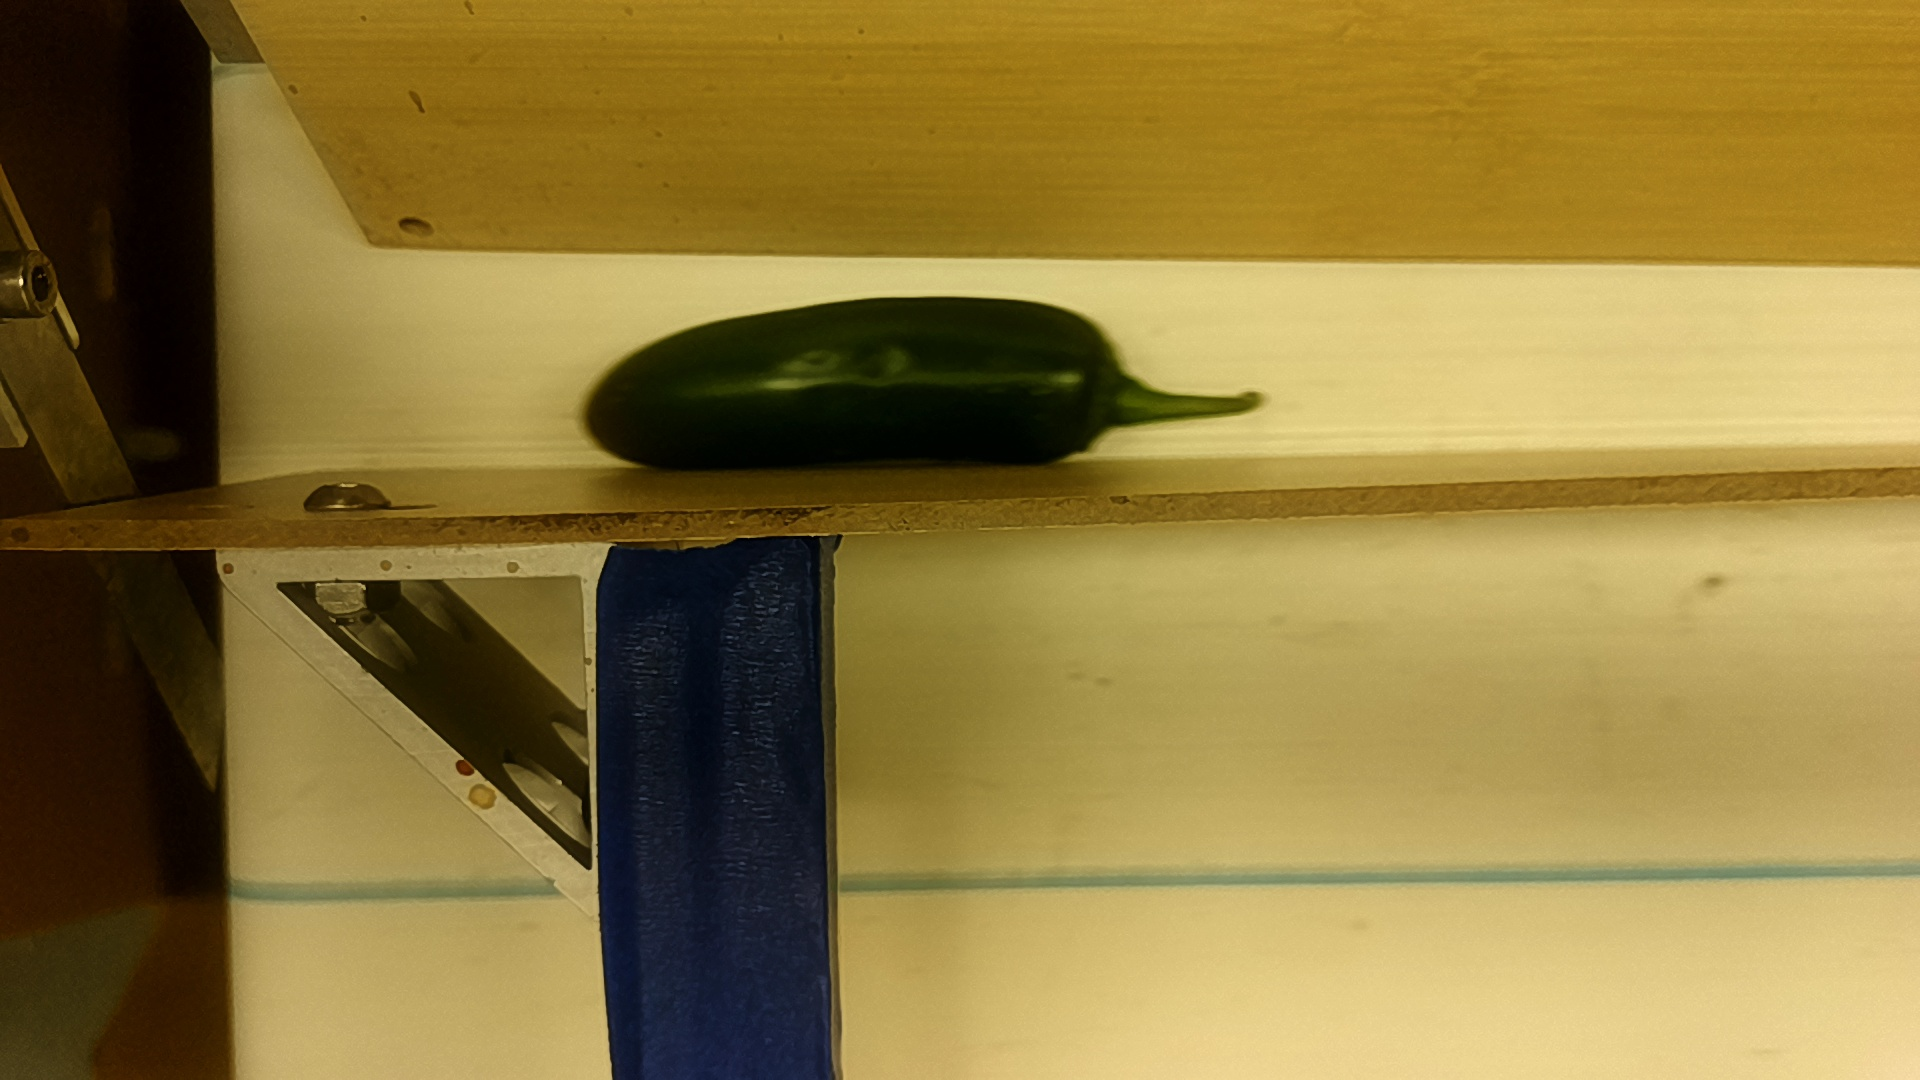Cut Point: (1064, 305, 1141, 462)
